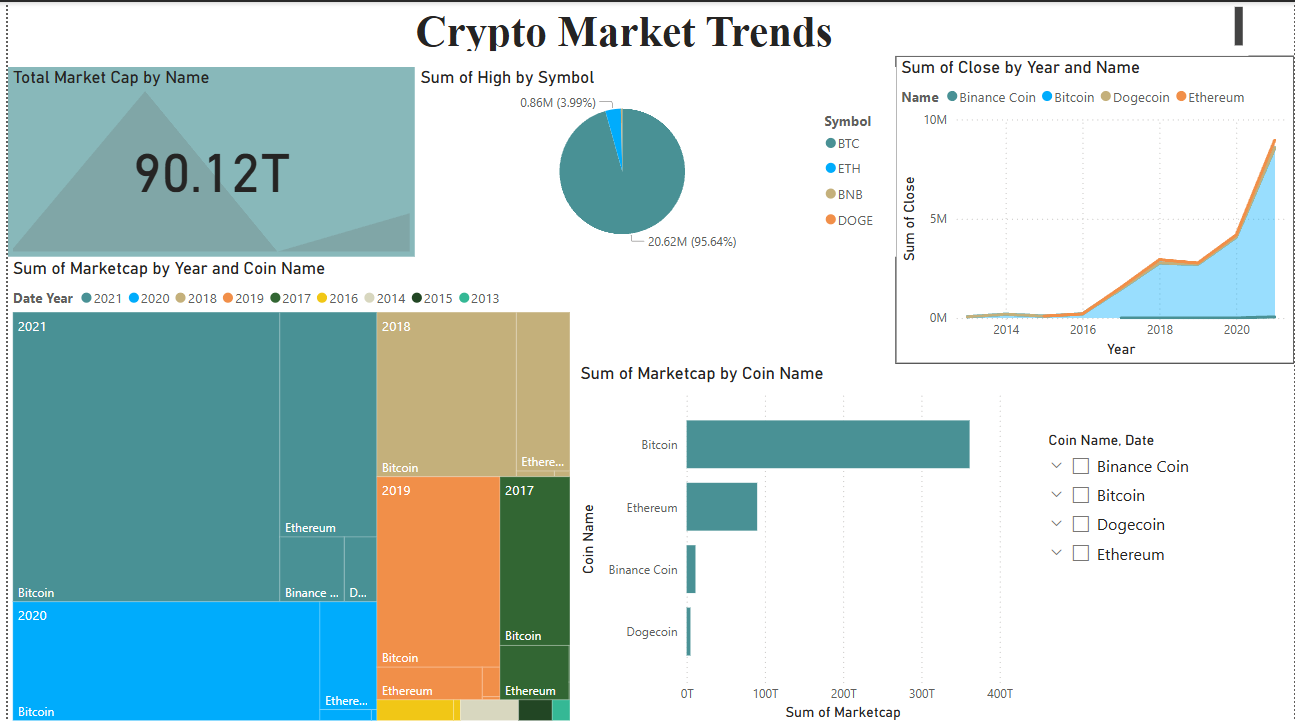

This screenshot's page, from the dashboard's own definition file:
{"tool":"powerbi","page":{"name":"Dashboard","canvas":[1280,720],"ordinal":5},"visuals":[{"type":"lineChart","fields":{"Y":["Sum(all data.Close)"],"Category":["all data.Date.Variation.Date Hierarchy.Month"]},"box":[883.2,53.5,396.8,306],"z":0},{"type":"barChart","fields":{"Category":["Coin Master.Coin Name"],"Y":["Sum(all data.Marketcap)"]},"box":[564.8,359.5,440.4,360.7],"z":1},{"type":"treemap","fields":{"Values":["Sum(all data.Marketcap)"],"Details":["Coin Master.Coin Name"],"Group":["all data.Date.Variation.Date Hierarchy.Year"]},"box":[0,255.2,564.4,465],"z":2},{"type":"slicer","fields":{"Values":["Coin Master.Coin Name","all data.Date"]},"box":[1022.1,423.3,257.7,163.2],"z":3},{"type":"kpi","fields":{"TrendLine":["all data.Name"],"Indicator":["Coin Master.Total Market Cap"]},"box":[0,65,404.9,189],"z":4},{"type":"textbox","box":[0,0,1234,53.5],"z":5},{"type":"pieChart","fields":{"Category":["all data.Symbol"],"Y":["Sum(all data.High)"]},"box":[405,65,478,189],"z":6}]}

Visuals, with their boxes in screenshot pixels (x1, y1, x2, y2), scaled from the page's 1280x720 canvas onto the 1295x721 screenshot:
lineChart - Sum(all data.Close) x all data.Date.Variation.Date Hierarchy.Month: select_region(894, 54, 1294, 360)
barChart - Coin Master.Coin Name x Sum(all data.Marketcap): select_region(571, 360, 1017, 720)
treemap - Sum(all data.Marketcap) x Coin Master.Coin Name: select_region(0, 256, 571, 720)
slicer - Coin Master.Coin Name x all data.Date: select_region(1034, 424, 1294, 587)
kpi - all data.Name x Coin Master.Total Market Cap: select_region(0, 65, 410, 254)
textbox: select_region(0, 0, 1248, 54)
pieChart - all data.Symbol x Sum(all data.High): select_region(410, 65, 893, 254)
